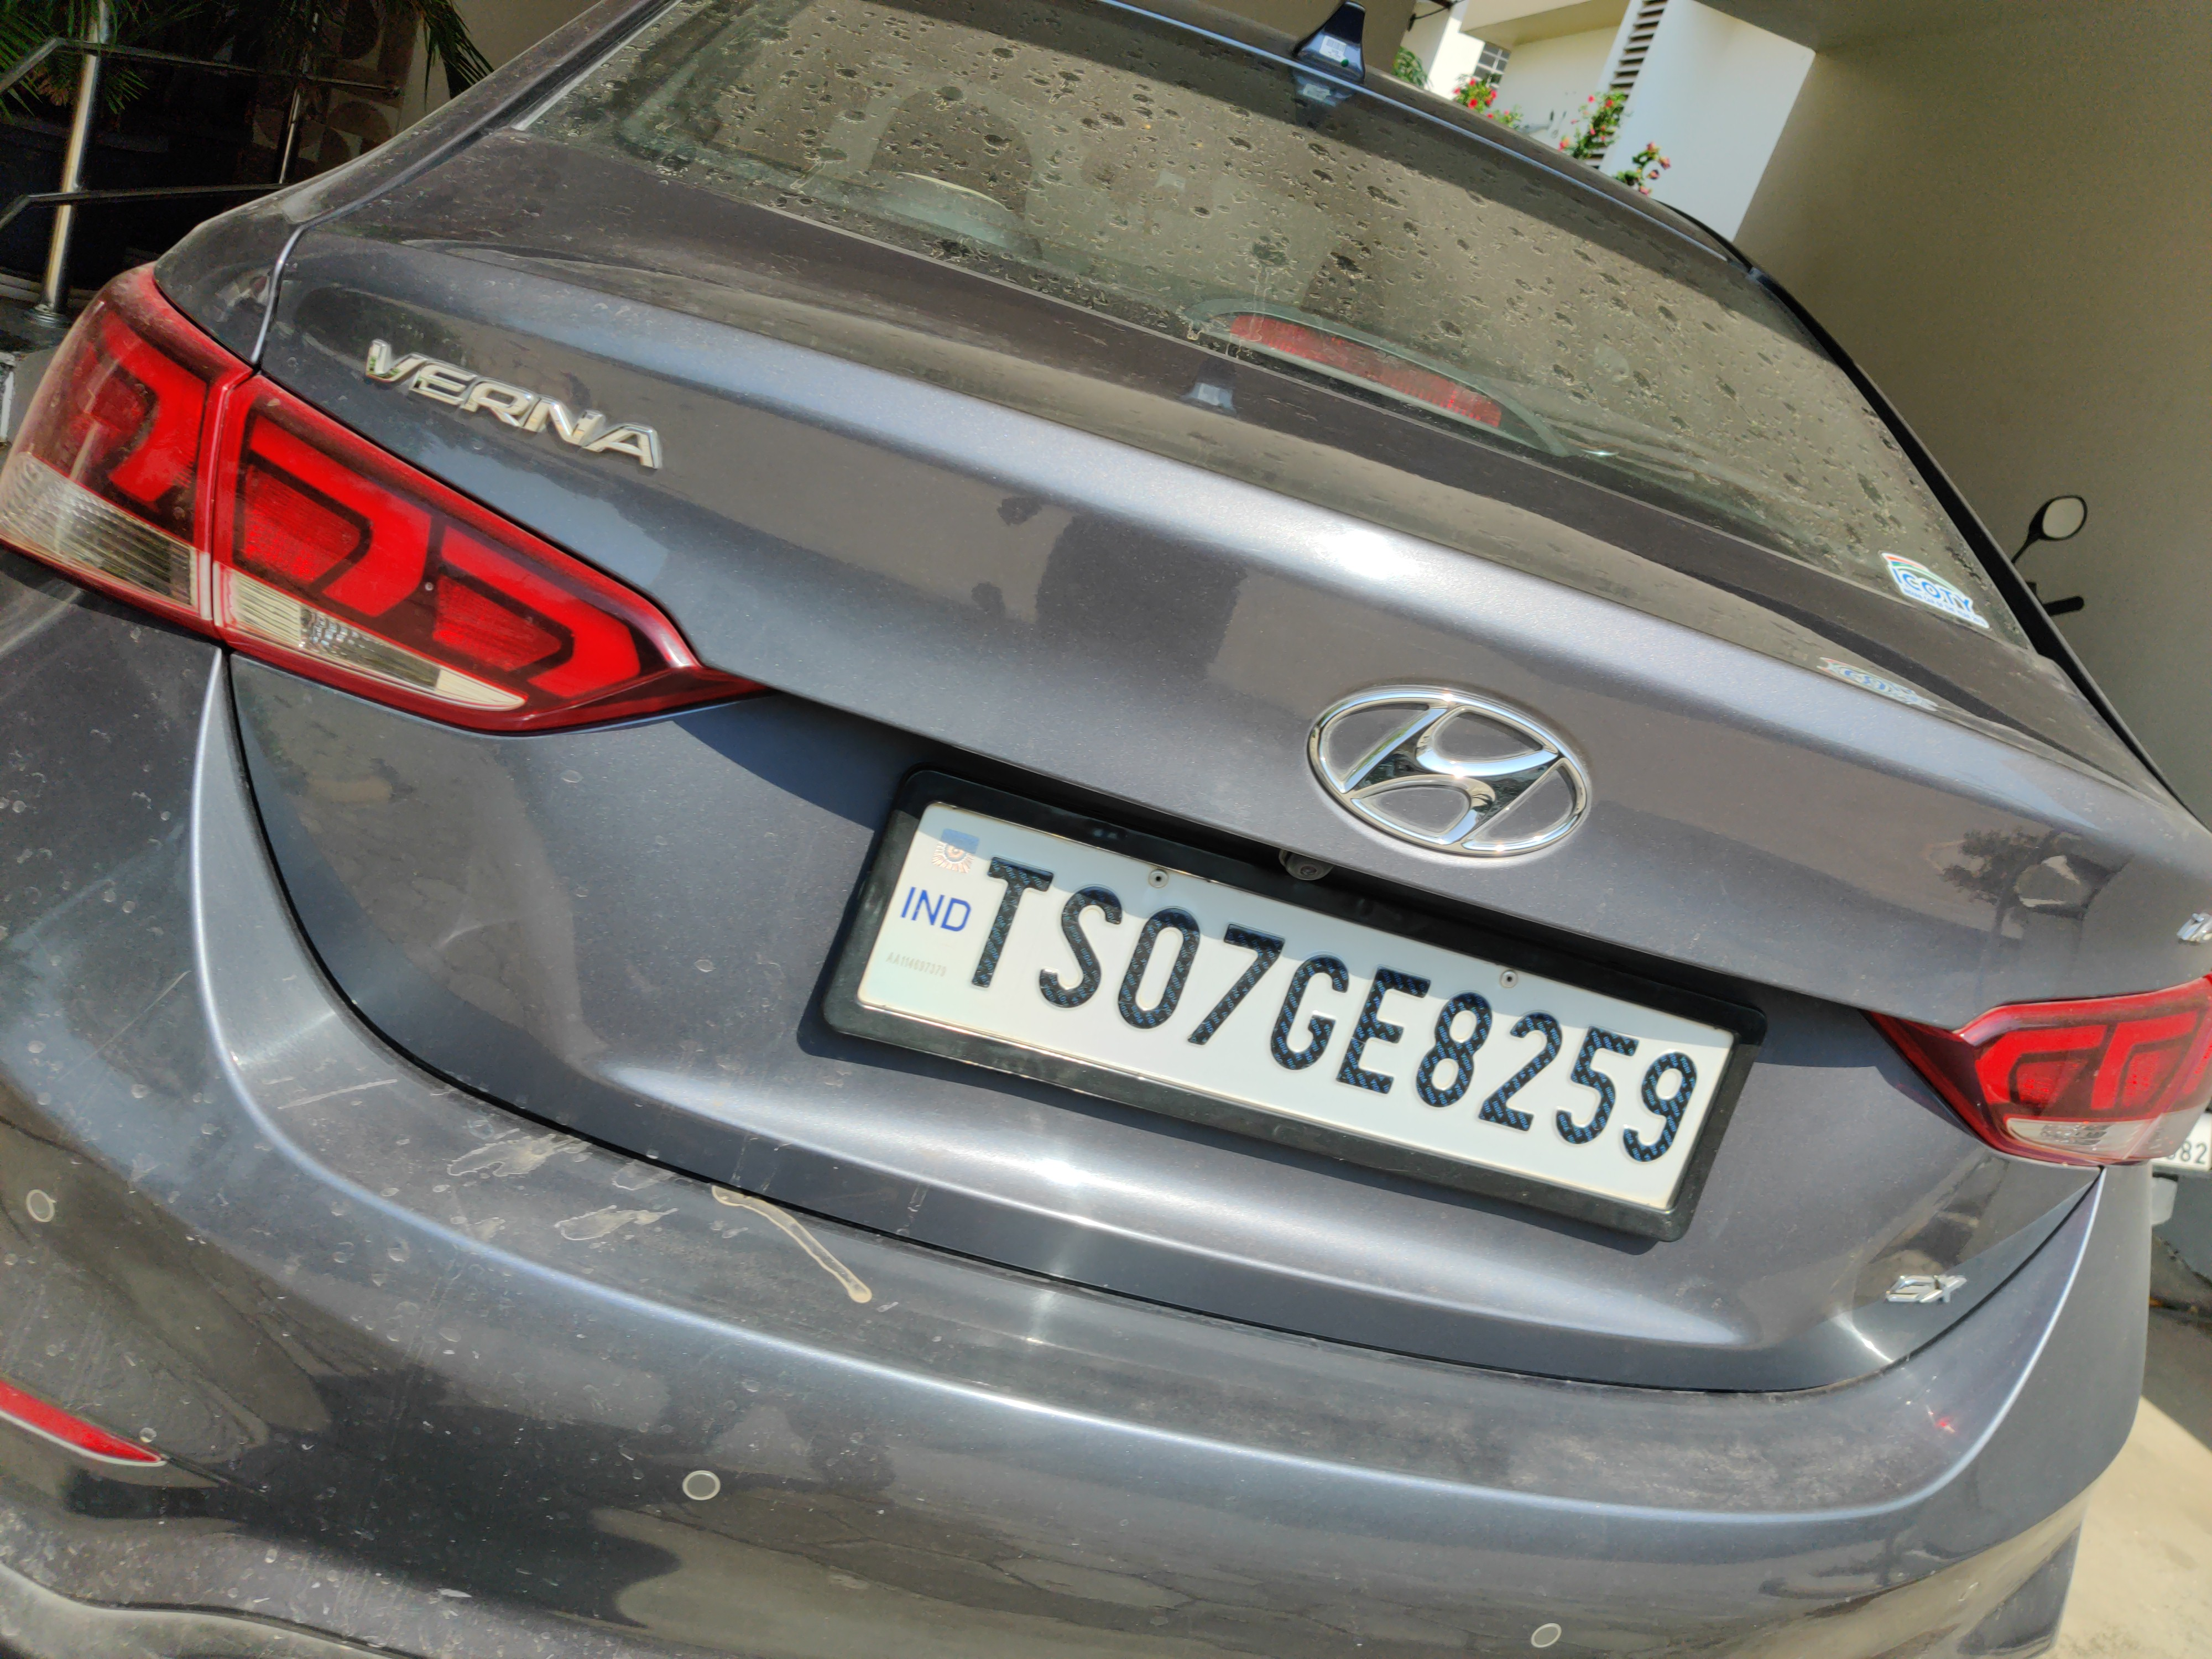plate: (765, 698, 1797, 1269)
